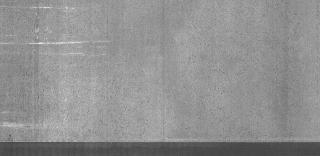welding line: (1, 137, 319, 149)
